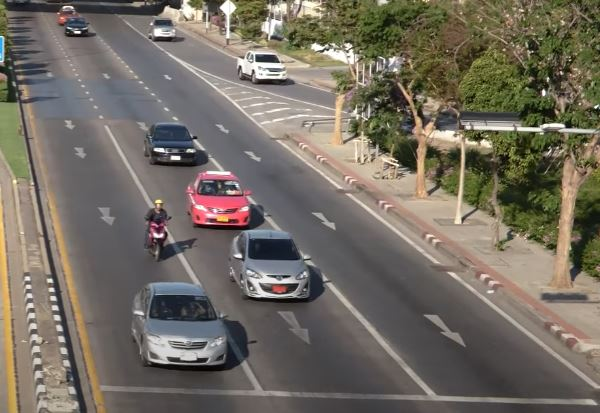Car: (130, 281, 230, 371), (229, 228, 312, 303), (184, 169, 253, 230), (142, 121, 199, 168), (236, 49, 288, 86), (147, 17, 177, 42), (63, 16, 90, 38)
Motorcycle: (144, 197, 173, 263)
